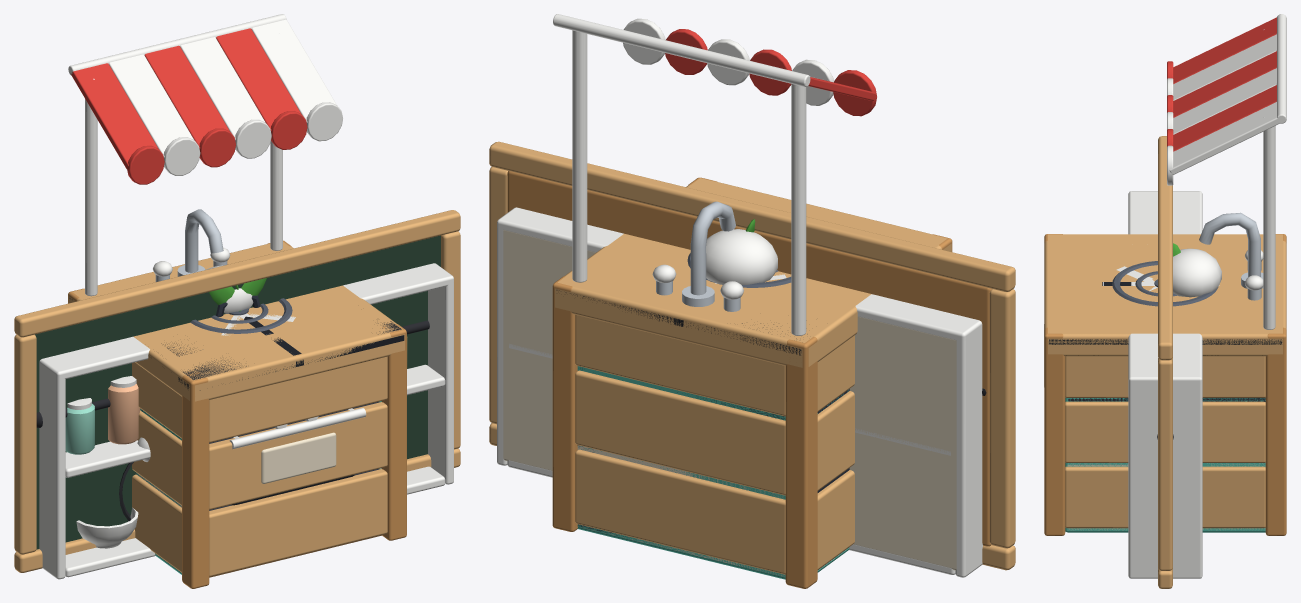
The model's file is kitchen.glb.
3 renders of one model, left to right at view 1: azimuth 30°, elevation 25°; view 2: azimuth 150°, elevation 25°; view 3: azimuth 270°, elevation 25°, orthographic. The views are drawn at different scales.
Visible parts, largest first — view 1: crate_station_crate, serve_window_awning, wall_shelf_frame, chalkboard_face, chalkboard_frame, counter_teal_body, wall_shelf_jars, sink_body, stove_details, stove_body, sink_details, serve_window_body (+2 smaller); view 2: crate_station_crate, wall_shelf_frame, chalkboard_frame, counter_teal_body, serve_window_awning, sink_body, sink_details, chef_bot_body, serve_window_body, stove_body; view 3: crate_station_crate, counter_teal_body, wall_shelf_frame, serve_window_awning, chalkboard_frame, sink_body, serve_window_body, chef_bot_body, sink_details, stove_body, stove_details.
Part boxes in pixels (box(x1,y1,x2,y2)): crate_station_crate: box(68, 240, 406, 588); serve_window_awning: box(68, 14, 342, 296); wall_shelf_frame: box(39, 263, 453, 579); chalkboard_face: box(35, 235, 440, 549); chalkboard_frame: box(14, 210, 460, 572); counter_teal_body: box(68, 242, 404, 574); wall_shelf_jars: box(65, 337, 407, 548); sink_body: box(68, 244, 404, 570); stove_details: box(190, 298, 366, 449); stove_body: box(69, 298, 404, 510); sink_details: box(153, 209, 230, 281); serve_window_body: box(69, 242, 399, 399); crate_station_crate: box(552, 177, 952, 588); wall_shelf_frame: box(497, 207, 982, 577); chalkboard_frame: box(489, 141, 1015, 570); counter_teal_body: box(555, 178, 951, 579); serve_window_awning: box(553, 14, 876, 335); sink_body: box(555, 179, 950, 576); sink_details: box(652, 201, 743, 311); chef_bot_body: box(706, 229, 777, 285); serve_window_body: box(559, 178, 951, 364); stove_body: box(556, 290, 849, 569); crate_station_crate: box(1044, 234, 1286, 535); counter_teal_body: box(1044, 234, 1286, 532); wall_shelf_frame: box(1128, 191, 1202, 578); serve_window_awning: box(1167, 14, 1286, 329); chalkboard_frame: box(1158, 136, 1172, 588); sink_body: box(1044, 234, 1286, 530); serve_window_body: box(1048, 234, 1282, 356); chef_bot_body: box(1173, 248, 1221, 297); sink_details: box(1199, 212, 1263, 300); stove_body: box(1049, 282, 1282, 401); stove_details: box(1044, 261, 1218, 387).
Bounding box in the file's own units: 2 × 1.88 × 0.9819.
